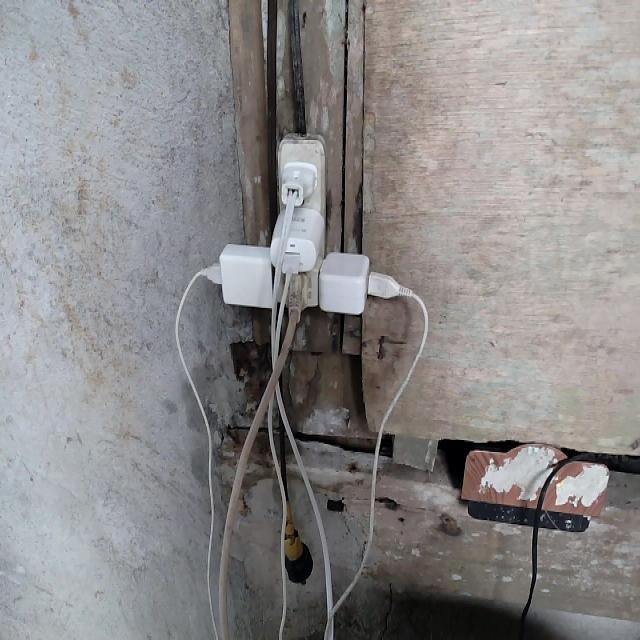-: (192, 133, 412, 328)
